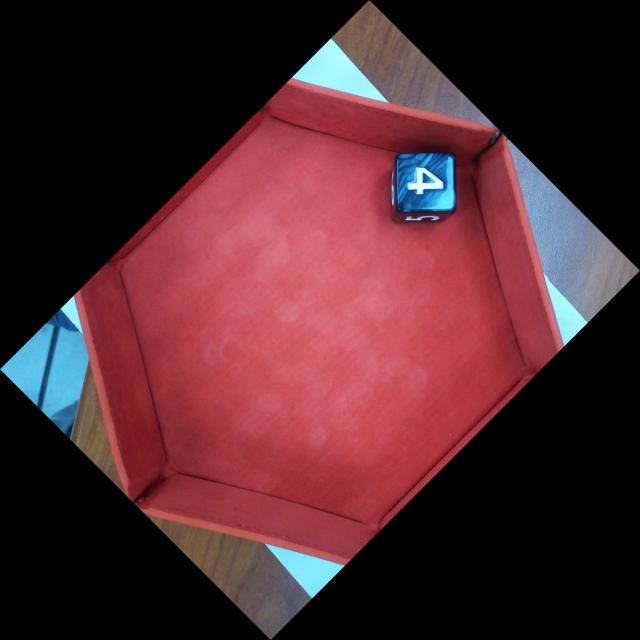dice: (396, 154, 453, 208)
